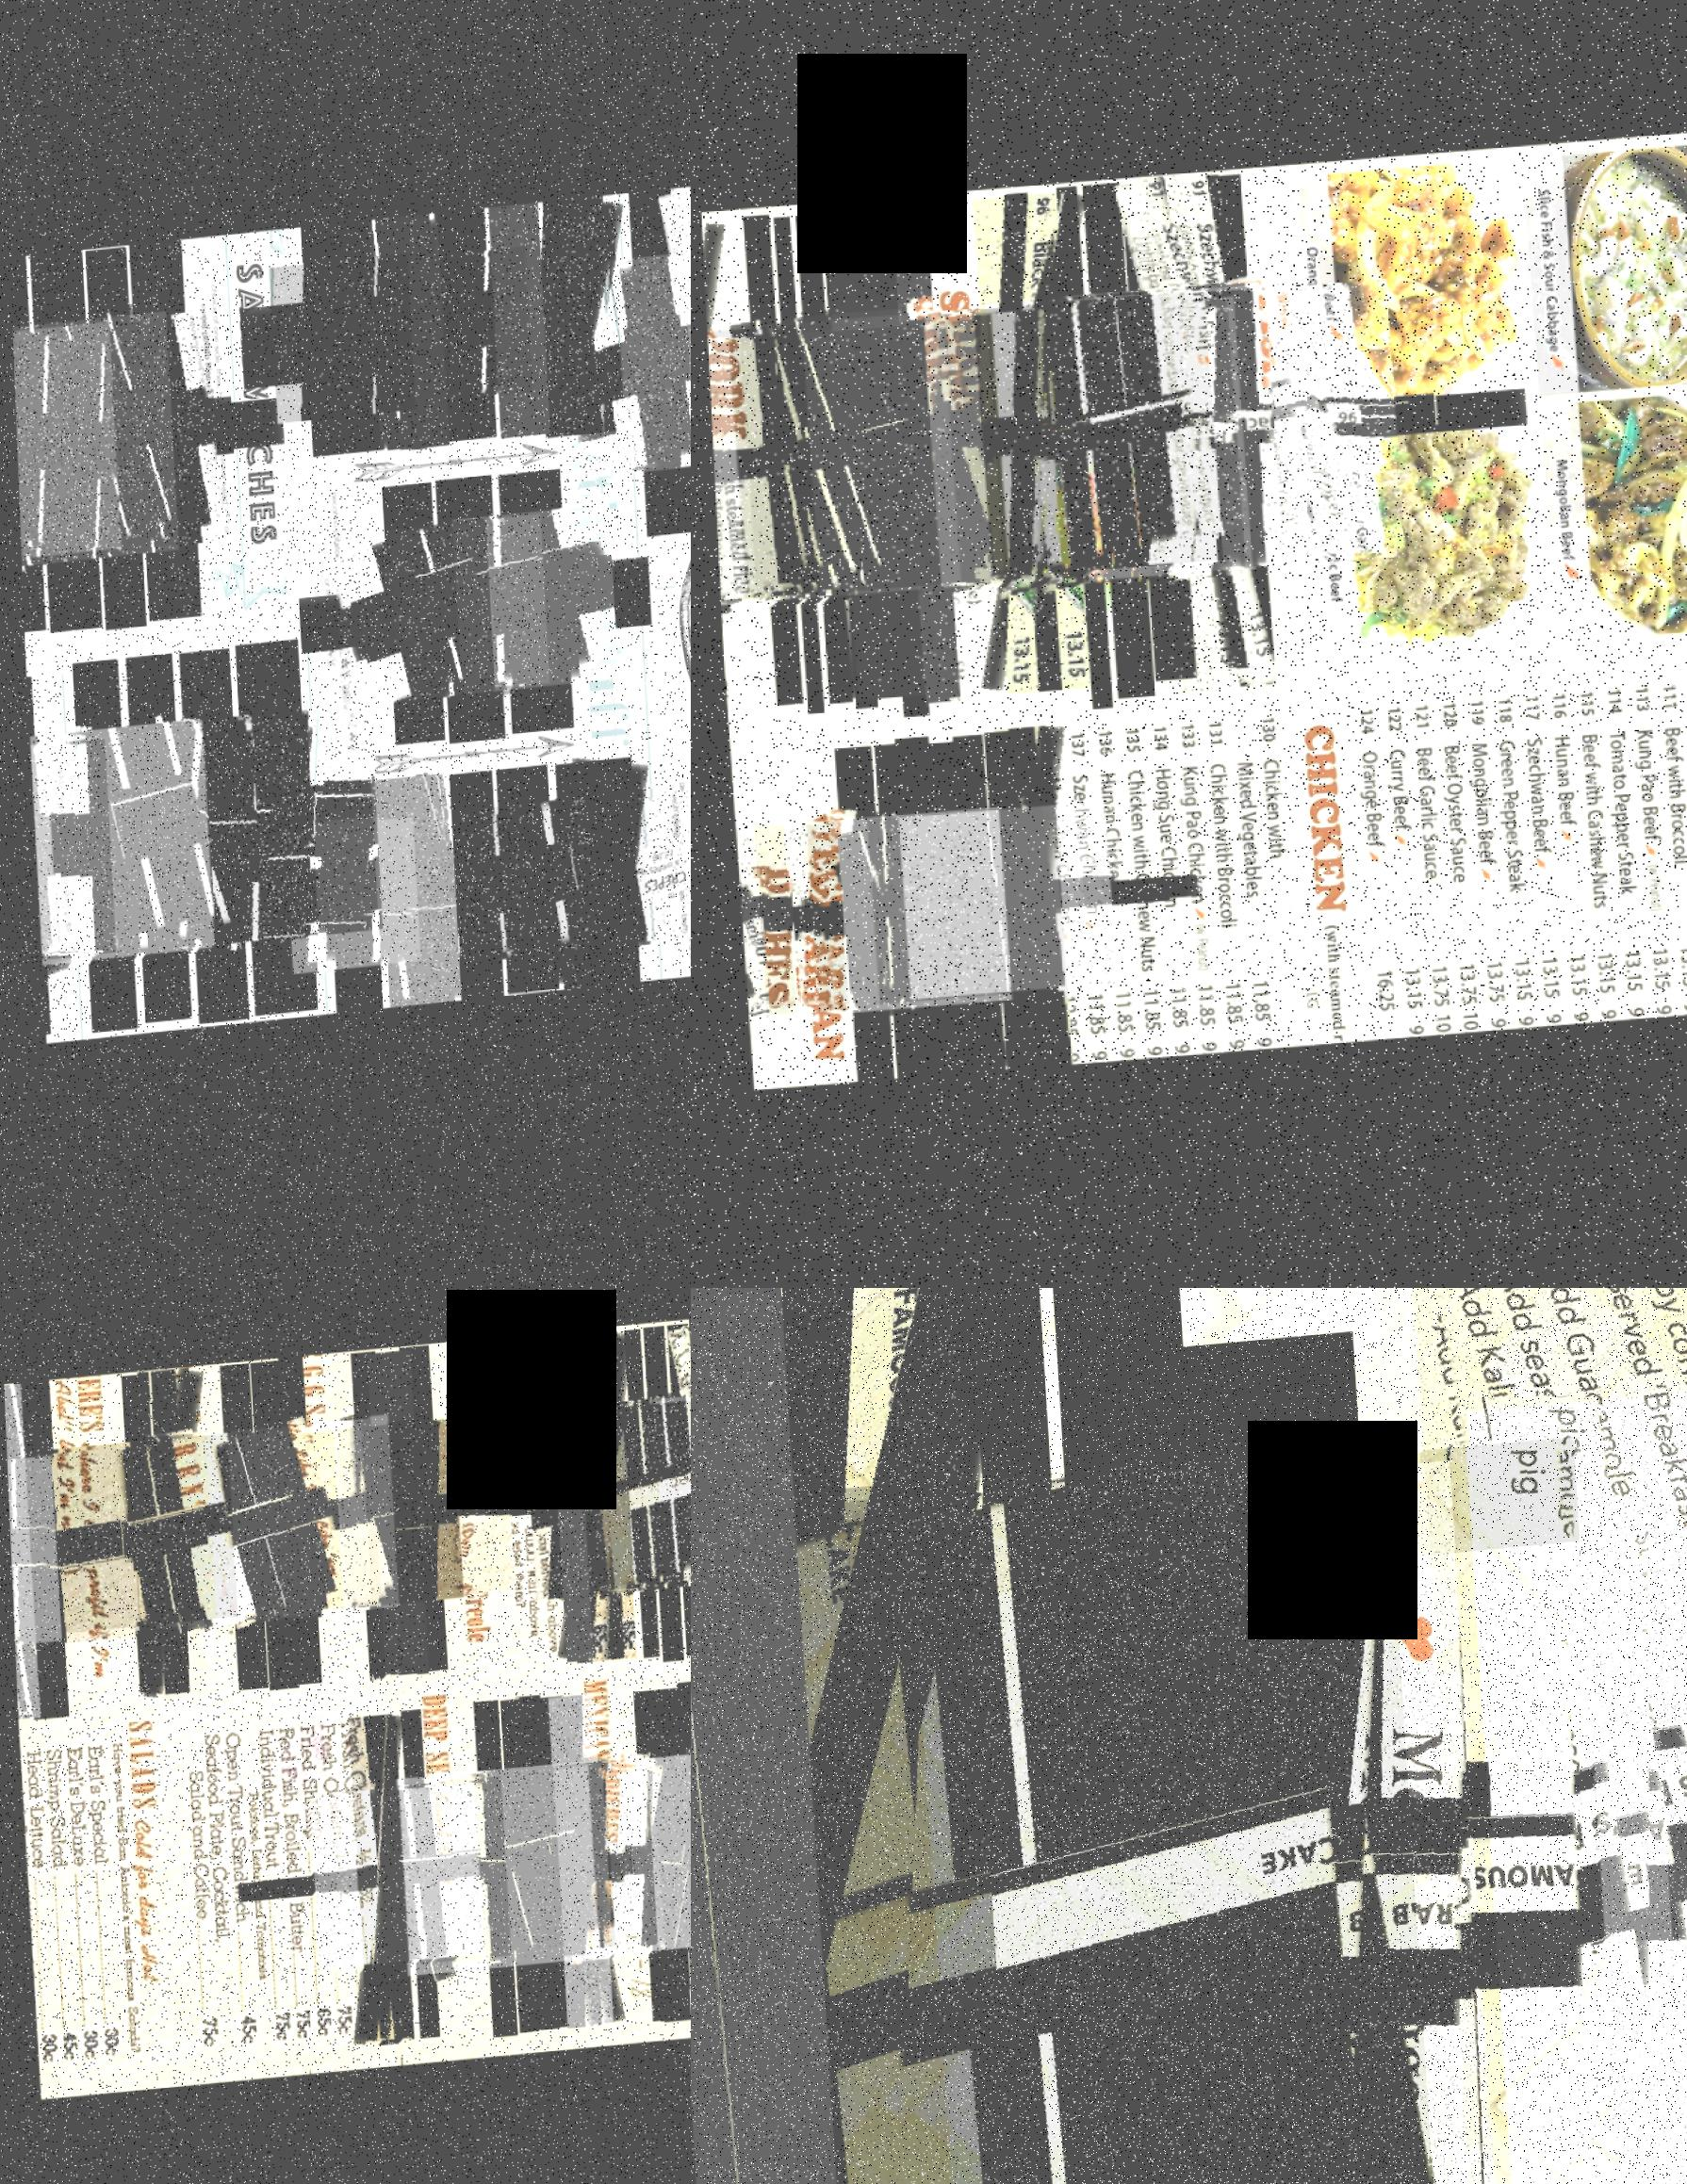Menu-Items: (691, 1458, 1611, 2184), (691, 1477, 1487, 2184), (691, 1458, 1425, 2184), (907, 1555, 1675, 2184), (696, 1288, 1026, 2184), (1393, 1288, 1687, 2184), (1457, 1394, 1687, 2184), (691, 1288, 852, 2184), (982, 285, 1320, 592), (1065, 289, 1396, 588), (911, 303, 1242, 602), (946, 298, 1276, 595), (888, 298, 1216, 593), (728, 315, 1054, 609), (704, 322, 998, 602), (704, 312, 980, 606), (704, 324, 950, 604), (704, 308, 934, 606), (1132, 179, 1246, 701), (969, 198, 1083, 700), (163, 709, 376, 956), (99, 717, 310, 962), (44, 719, 253, 962), (11, 317, 216, 561), (796, 804, 1030, 1015), (820, 205, 918, 703), (826, 806, 1056, 1015), (741, 813, 966, 1018), (774, 813, 998, 1015), (856, 806, 1079, 1006), (25, 723, 204, 971), (888, 806, 1106, 1003), (388, 1771, 590, 1982), (142, 1426, 338, 1635), (11, 314, 174, 565), (198, 1422, 392, 1628), (415, 1773, 608, 1977), (434, 1770, 626, 1973), (175, 1431, 363, 1630), (46, 1437, 232, 1635), (461, 1771, 647, 1970), (517, 1406, 691, 1610), (328, 1421, 510, 1614), (276, 1426, 459, 1619), (321, 1784, 503, 1977), (299, 1791, 477, 1979), (888, 205, 952, 716), (447, 515, 611, 707), (546, 1764, 691, 1971), (558, 264, 691, 489), (704, 324, 812, 600), (328, 528, 487, 714), (386, 526, 542, 709), (546, 1410, 691, 1599), (551, 1339, 631, 1674), (126, 243, 195, 623), (983, 730, 1060, 1073), (5, 1449, 135, 1647), (1219, 712, 1292, 1057), (539, 763, 643, 999), (11, 322, 115, 558), (266, 260, 411, 429), (569, 1412, 691, 1601), (135, 1371, 204, 1706), (450, 808, 588, 971), (530, 205, 620, 448), (168, 1731, 234, 2060), (542, 1702, 606, 2037), (338, 1720, 402, 2053), (276, 824, 411, 980), (395, 255, 528, 413), (363, 779, 452, 1015), (587, 1405, 691, 1603), (361, 1357, 424, 1690), (704, 337, 783, 595), (365, 220, 445, 459), (594, 1762, 691, 1957), (404, 818, 532, 967), (1341, 714, 1396, 1049), (1423, 700, 1476, 1043), (1026, 730, 1079, 1070), (236, 1727, 289, 2067), (1134, 717, 1186, 1063), (25, 742, 105, 962), (1054, 730, 1106, 1068), (640, 1699, 691, 2033), (1563, 693, 1613, 1034), (1193, 716, 1240, 1059), (1402, 703, 1450, 1045), (1485, 698, 1533, 1040), (610, 1757, 691, 1957), (1618, 691, 1666, 1031), (1081, 728, 1129, 1066), (1510, 700, 1558, 1038), (1538, 696, 1584, 1036), (1108, 726, 1154, 1065), (1458, 696, 1503, 1042), (1375, 712, 1419, 1047), (1595, 693, 1637, 1033), (486, 213, 546, 448), (1164, 726, 1205, 1061), (1648, 684, 1687, 1027), (546, 1344, 587, 1672), (330, 1727, 370, 2051), (610, 794, 691, 955), (214, 1729, 253, 2065), (312, 1716, 347, 2053), (275, 1731, 310, 2058), (633, 1762, 691, 1954), (292, 1723, 326, 2051), (4, 1383, 34, 1718), (5, 1456, 57, 1646), (666, 198, 691, 551), (647, 1406, 691, 1587), (1673, 684, 1687, 1027), (677, 1337, 691, 1661), (684, 799, 691, 944)
